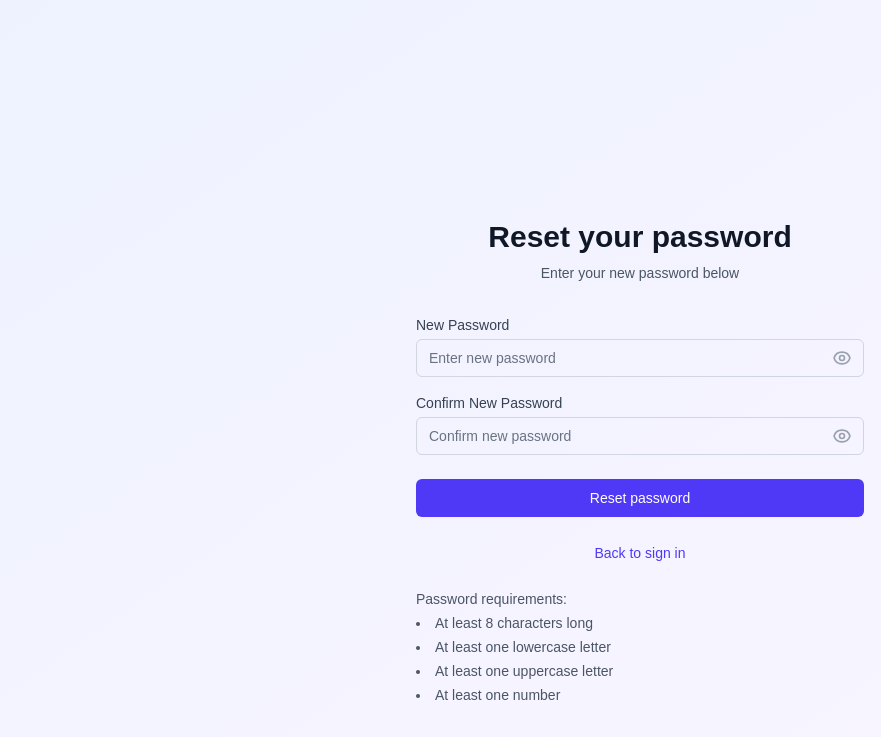
ResetPasswordForm › updates password strength indicator
# Test weak password
Type "weak" into the password field labelled "New Password" at (640,358), box [416,339,864,377]
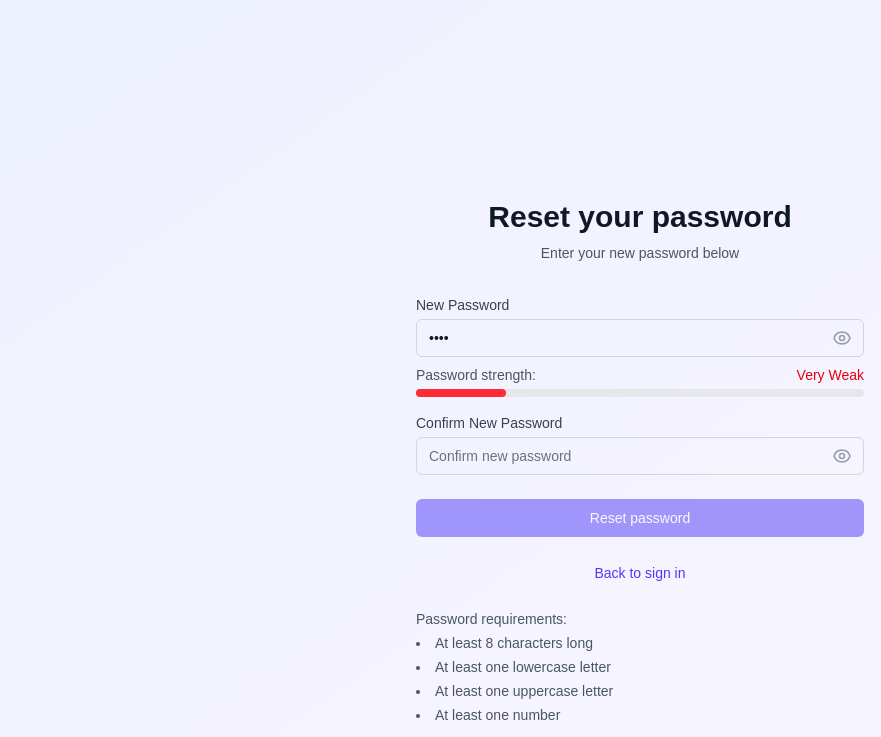
Now the text "Very Weak" is shown, box [797,365,864,385]
# Test strong password
Type "StrongPassword123!" into the password field labelled "New Password" at (640,338), box [416,319,864,357]
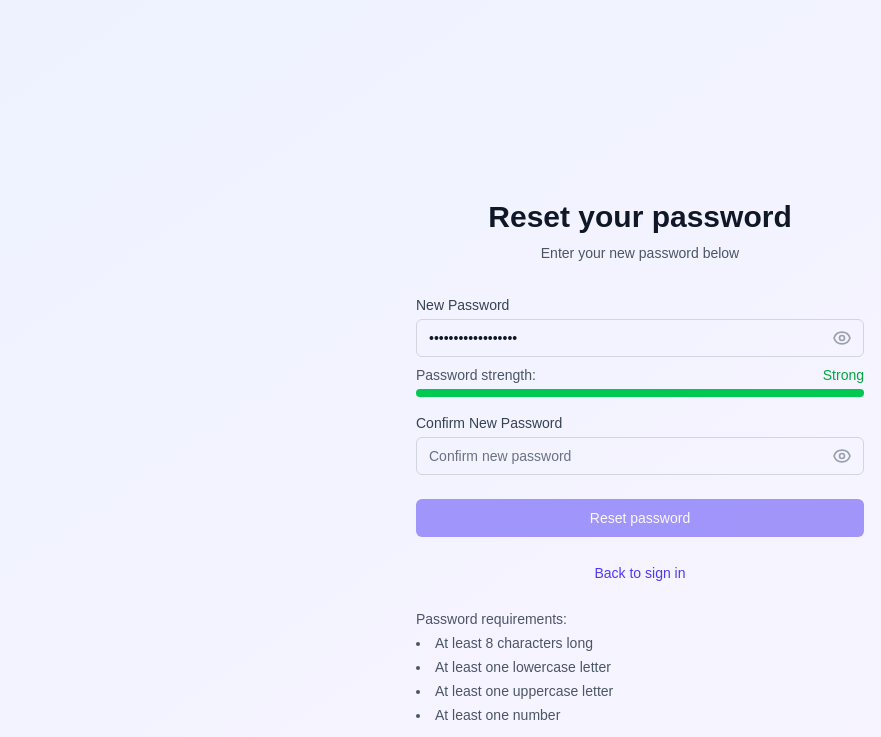
Now the text "Strong" is shown, box [823,365,864,385]
